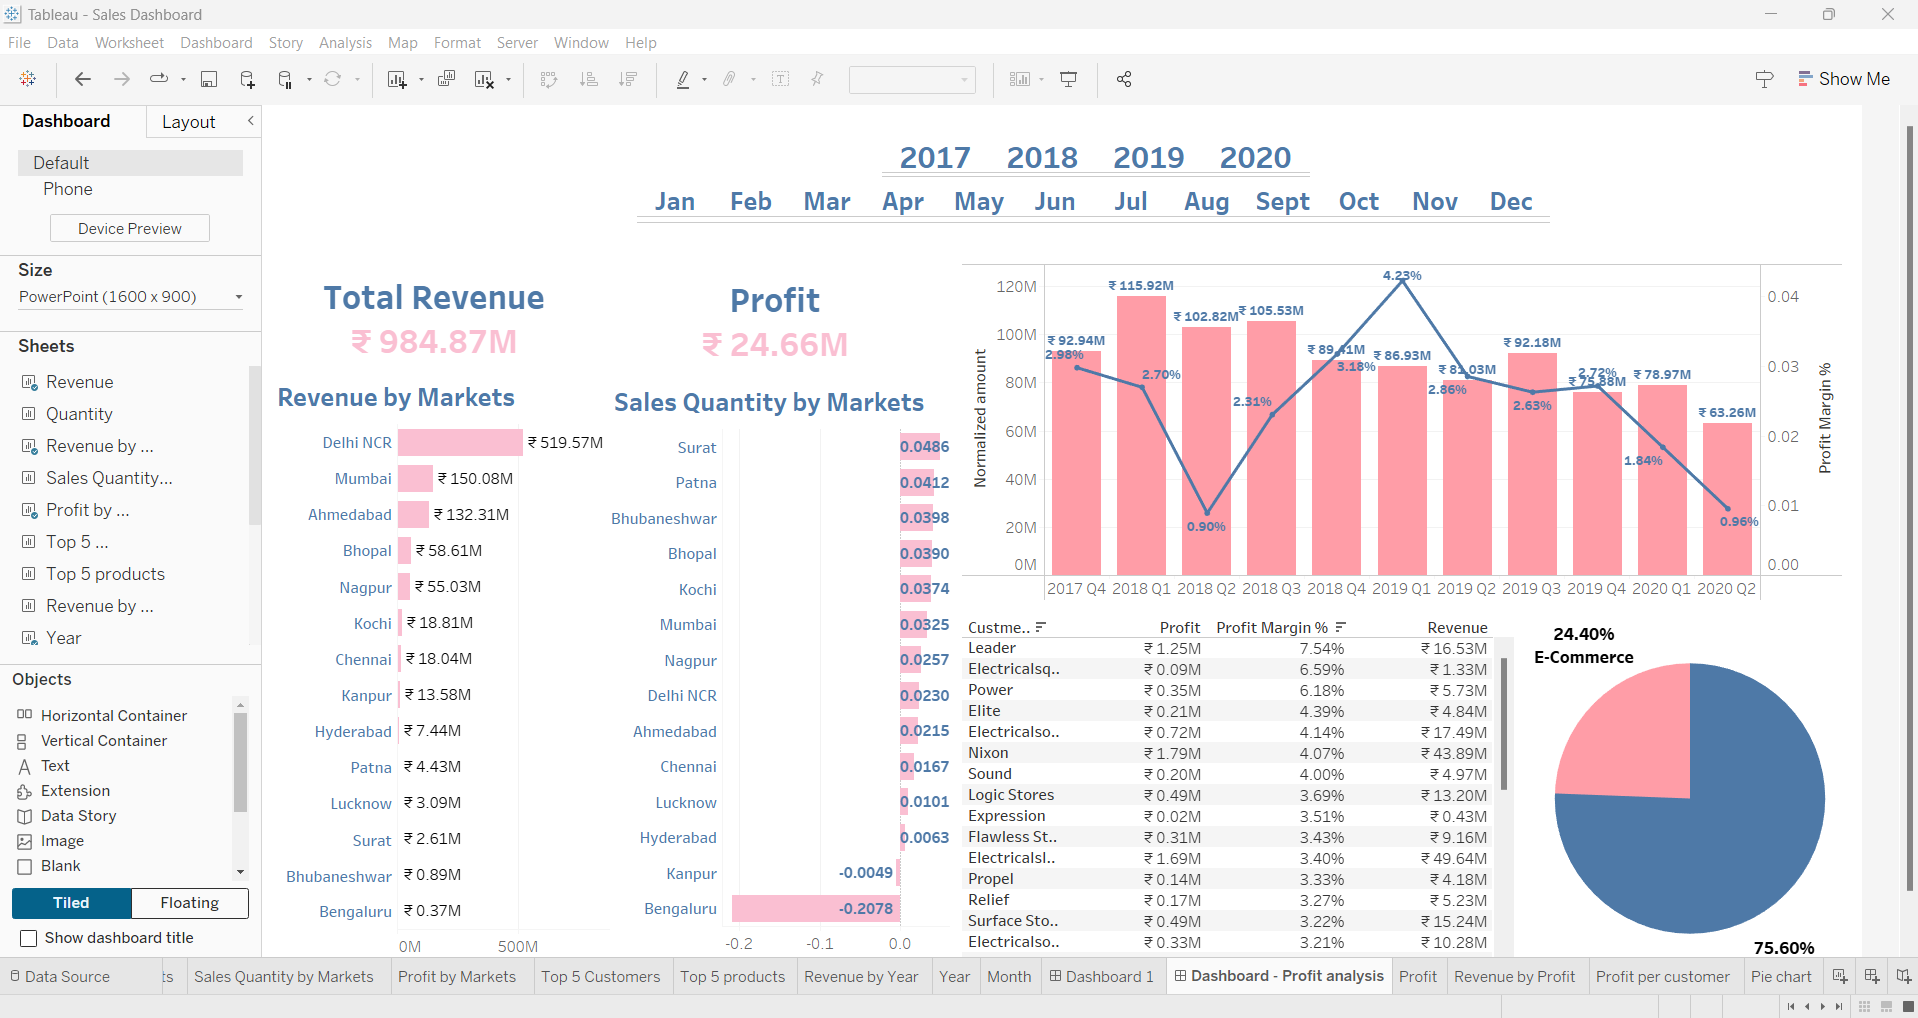

The page's visual inventory and layout, read from the dashboard file:
{"tool":"tableau","page":{"name":"Dashboard - Profit analysis","canvas":[1600,900],"ordinal":0},"visuals":[{"type":"worksheet","title":"Year","mark":"Automatic","cols":["cy_date"],"box":[620,35,428,37]},{"type":"worksheet","title":"Month","mark":"Automatic","cols":["cy_date"],"box":[375,79,919,42]},{"type":"worksheet","title":"Profit","mark":"Automatic","box":[364,135,297,146]},{"type":"worksheet","title":"Revenue by Profit","mark":"Bar","rows":["Calculation_1577667278819893248","Calculation_794322422098157568"],"cols":["cy_date"],"box":[700,144,881,352]},{"type":"worksheet","title":"Revenue","mark":"Automatic","box":[14,147,315,131]},{"type":"worksheet","title":"Revenue by Markets","mark":"Automatic","rows":["markets_name"],"cols":["Calculation_1577667278819893248"],"box":[11,270,341,618]},{"type":"worksheet","title":"Profit by Markets ","mark":"Automatic","rows":["markets_name"],"cols":["Calculation_794322422098157568"],"box":[348,275,340,609]},{"type":"worksheet","title":"Pie chart","mark":"Pie","box":[1265,504,326,379]},{"type":"worksheet","title":"Profit per customer","mark":"Automatic","rows":["custmer_name"],"box":[700,512,552,373]}]}

Visuals, with their boxes on the page's 1600x900 design canvas (x1, y1, x2, y2). These are canvas units, not pixel positions in the 1918x1018 screenshot, which may show the page scaled, cropped or inside an application window:
"Year" worksheet: l=620, t=35, r=1048, b=72
"Month" worksheet: l=375, t=79, r=1294, b=121
"Profit" worksheet: l=364, t=135, r=661, b=281
"Revenue by Profit" worksheet (Bar marks): l=700, t=144, r=1581, b=496
"Revenue" worksheet: l=14, t=147, r=329, b=278
"Revenue by Markets" worksheet: l=11, t=270, r=352, b=888
"Profit by Markets " worksheet: l=348, t=275, r=688, b=884
"Pie chart" worksheet (Pie marks): l=1265, t=504, r=1591, b=883
"Profit per customer" worksheet: l=700, t=512, r=1252, b=885
